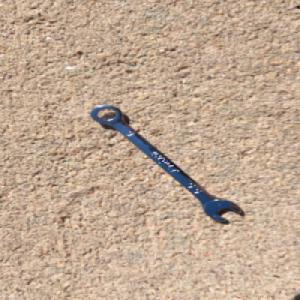Wrench: (87, 104, 243, 224)
